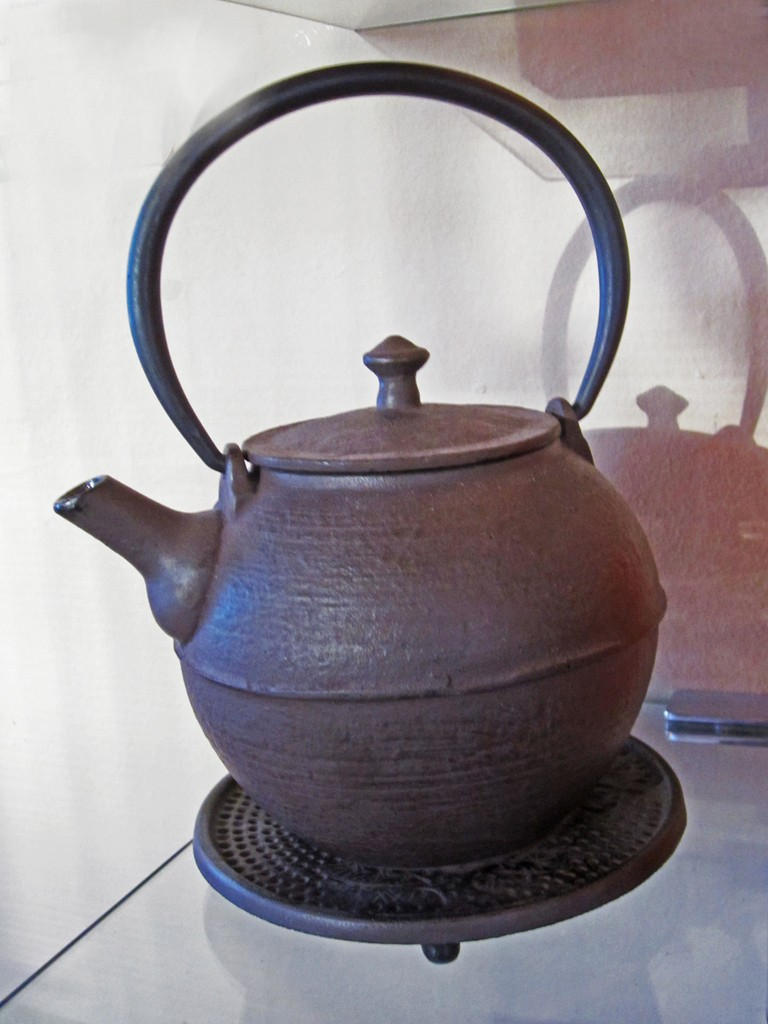teapot: (51, 60, 691, 964)
